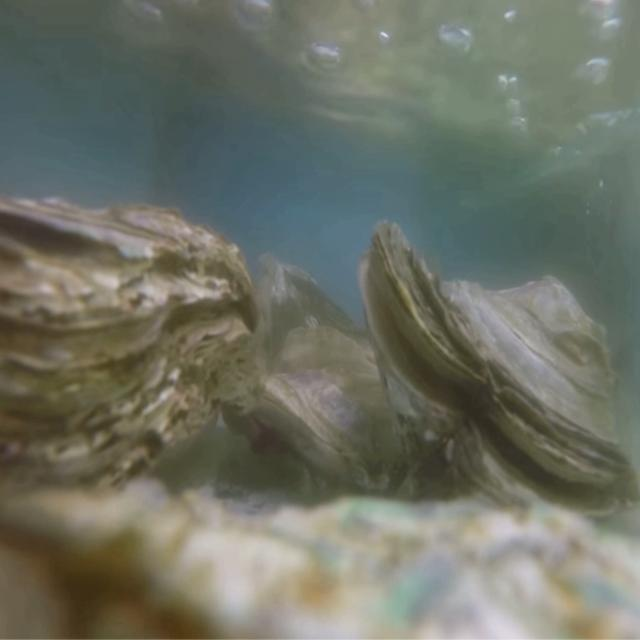Oyster-Closed: (0, 195, 260, 524), (255, 328, 419, 505)
Oyster-Indeterminate: (0, 477, 640, 640)
Oyster-Open: (358, 220, 640, 537)
